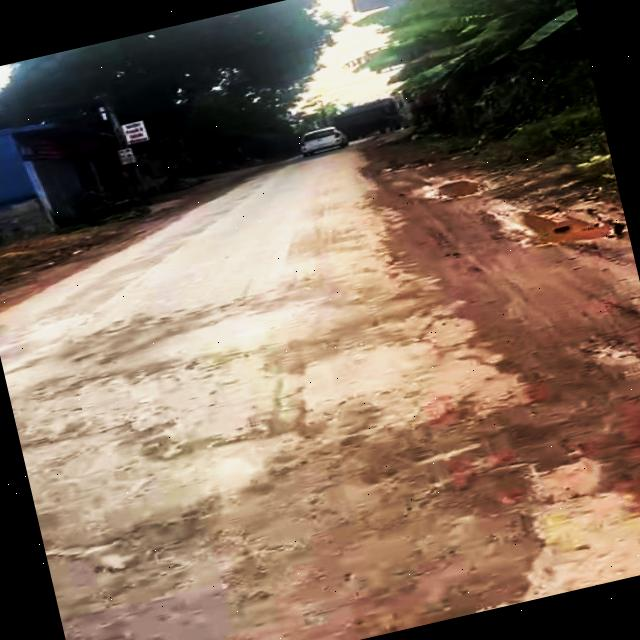pothole: (497, 184, 630, 267), (416, 170, 492, 208)
